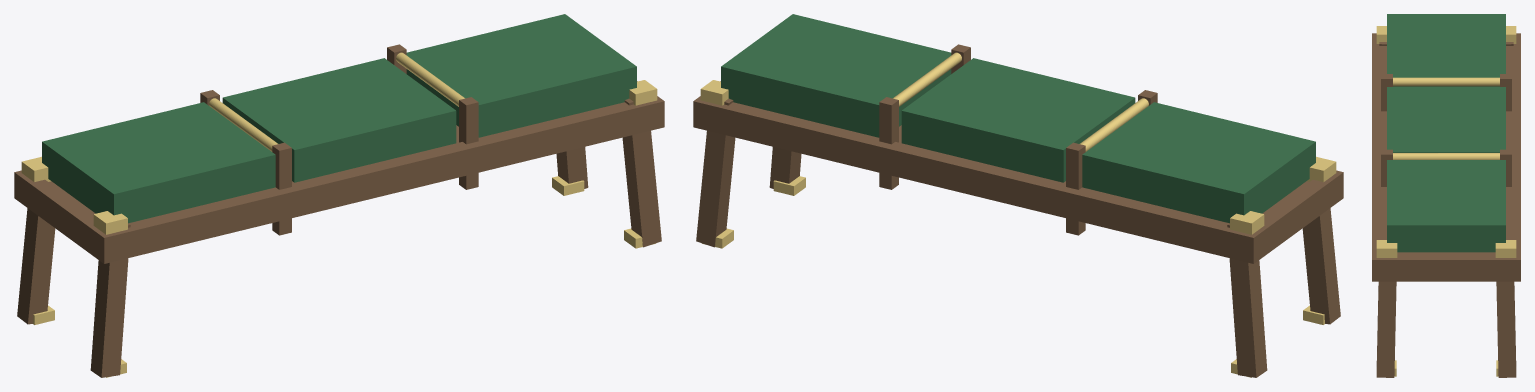
File: 09_museum_bench.fbx
The picture shows the model from 3 angles, left to right: view 1: azimuth 30°, elevation 25°; view 2: azimuth 150°, elevation 25°; view 3: azimuth 270°, elevation 25°; orthographic projection. The views are drawn at different scales.
Visible parts, largest first — view 1: RailBack, Cushion_0, Cushion_1, Cushion_2, Leg_-85_-20, Leg_85_-20, Leg_-85_20, RailLeft, DivPostB_30, DivPostB_-30, Leg_85_20, GrabBar_30 (+4 smaller); view 2: RailFront, Cushion_0, Cushion_1, Cushion_2, Leg_-85_20, Leg_85_20, Leg_-85_-20, RailLeft, DivPostF_30, DivPostF_-30, Leg_85_-20, GrabBar_30 (+4 smaller); view 3: Cushion_2, Cushion_1, Cushion_0, RailRight, RailBack, RailFront, Leg_85_-20, Leg_85_20, GrabBar_-30, GrabBar_30, CornerBkt_85_-20, CornerBkt_85_20 (+7 smaller).
Part boxes in pixels (<box>): RailBack: <box>95,96,664,263</box>; Cushion_0: <box>42,102,275,223</box>; Cushion_1: <box>222,58,456,182</box>; Cushion_2: <box>406,14,636,137</box>; Leg_-85_-20: <box>90,223,130,377</box>; Leg_85_-20: <box>622,98,661,247</box>; Leg_-85_20: <box>17,208,55,324</box>; RailLeft: <box>23,177,99,256</box>; DivPostB_30: <box>459,97,478,189</box>; DivPostB_-30: <box>272,142,291,235</box>; Leg_85_20: <box>556,147,588,188</box>; GrabBar_30: <box>396,52,464,106</box>; RailFront: <box>693,96,1262,263</box>; Cushion_0: <box>1082,102,1315,223</box>; Cushion_1: <box>901,58,1135,182</box>; Cushion_2: <box>721,14,951,137</box>; Leg_-85_20: <box>1227,223,1267,377</box>; Leg_85_20: <box>696,98,735,247</box>; Leg_-85_-20: <box>1302,208,1340,324</box>; RailLeft: <box>1258,177,1334,256</box>; DivPostF_30: <box>879,97,898,189</box>; DivPostF_-30: <box>1066,142,1085,235</box>; Leg_85_-20: <box>769,147,801,188</box>; GrabBar_30: <box>893,52,961,106</box>; Cushion_2: <box>1387,160,1505,252</box>; Cushion_1: <box>1387,87,1505,152</box>; Cushion_0: <box>1387,14,1505,86</box>; RailRight: <box>1387,253,1505,281</box>; RailBack: <box>1372,33,1386,281</box>; RailFront: <box>1506,33,1520,281</box>; Leg_85_-20: <box>1376,281,1396,377</box>; Leg_85_20: <box>1496,281,1516,377</box>; GrabBar_-30: <box>1393,77,1499,86</box>; GrabBar_30: <box>1393,153,1499,159</box>; CornerBkt_85_-20: <box>1376,240,1397,257</box>; CornerBkt_85_20: <box>1495,240,1516,257</box>.
Bounding box in the file's own units: 180 × 56.24 × 50.
